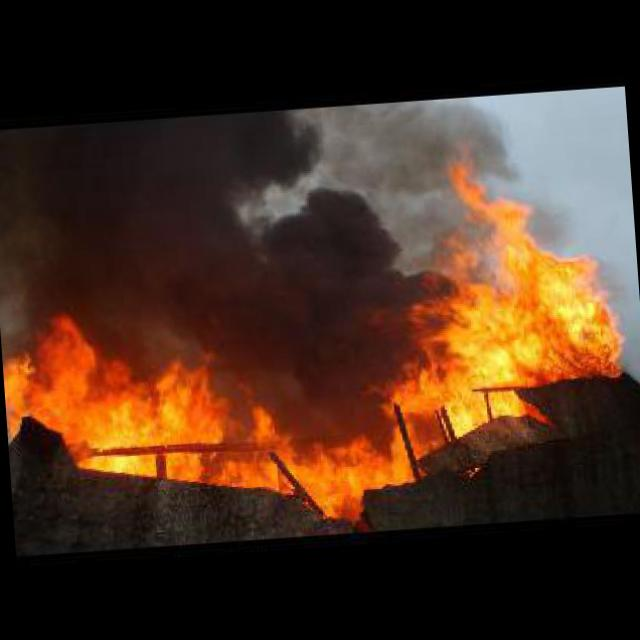fire: (0, 197, 629, 501)
smoke: (333, 100, 520, 268)
